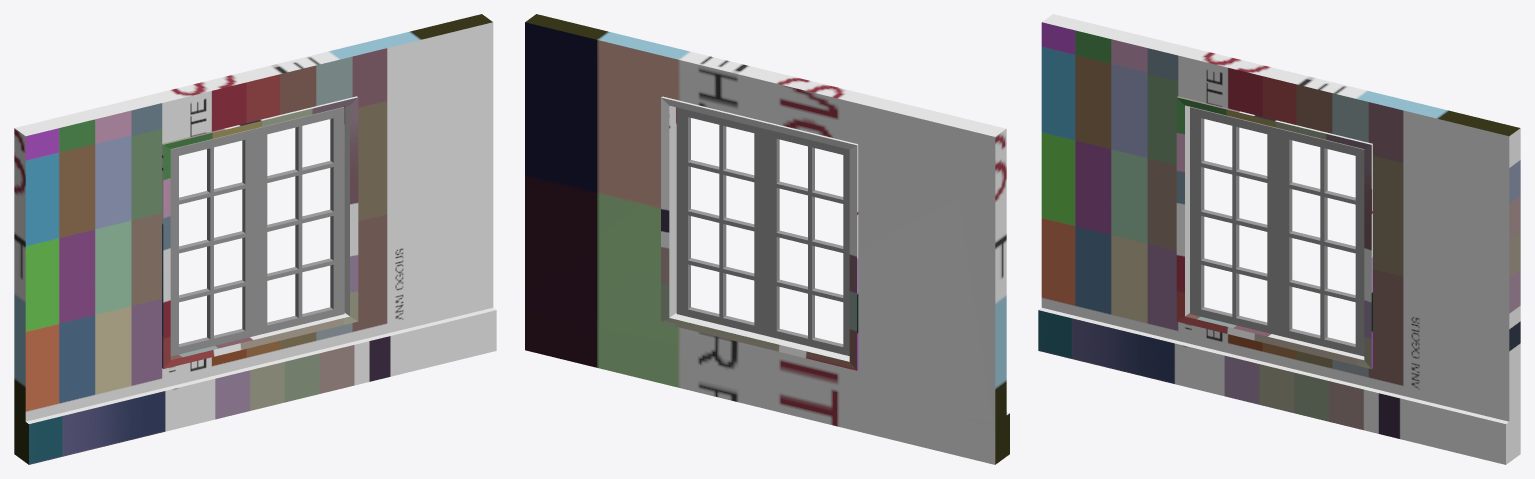
The model's file is Window_wall_Asset 1.fbx.
3 renders of one model, left to right at view 1: azimuth 30°, elevation 25°; view 2: azimuth 150°, elevation 25°; view 3: azimuth 330°, elevation 25°, orthographic.
Visible parts, largest first — view 1: windowwall; view 2: windowwall; view 3: windowwall.
Boxes of the visible parts, left/top/right/bottom form: windowwall: left=14, top=14, right=496, bottom=464; windowwall: left=525, top=14, right=1009, bottom=464; windowwall: left=1038, top=14, right=1520, bottom=464.
Size of the model in its own units: 494 by 330 by 28.78.
